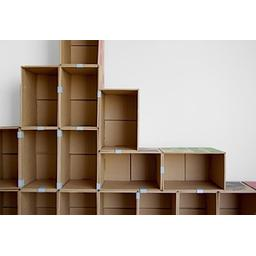cardboard: (17, 61, 62, 134), (96, 83, 144, 150)
